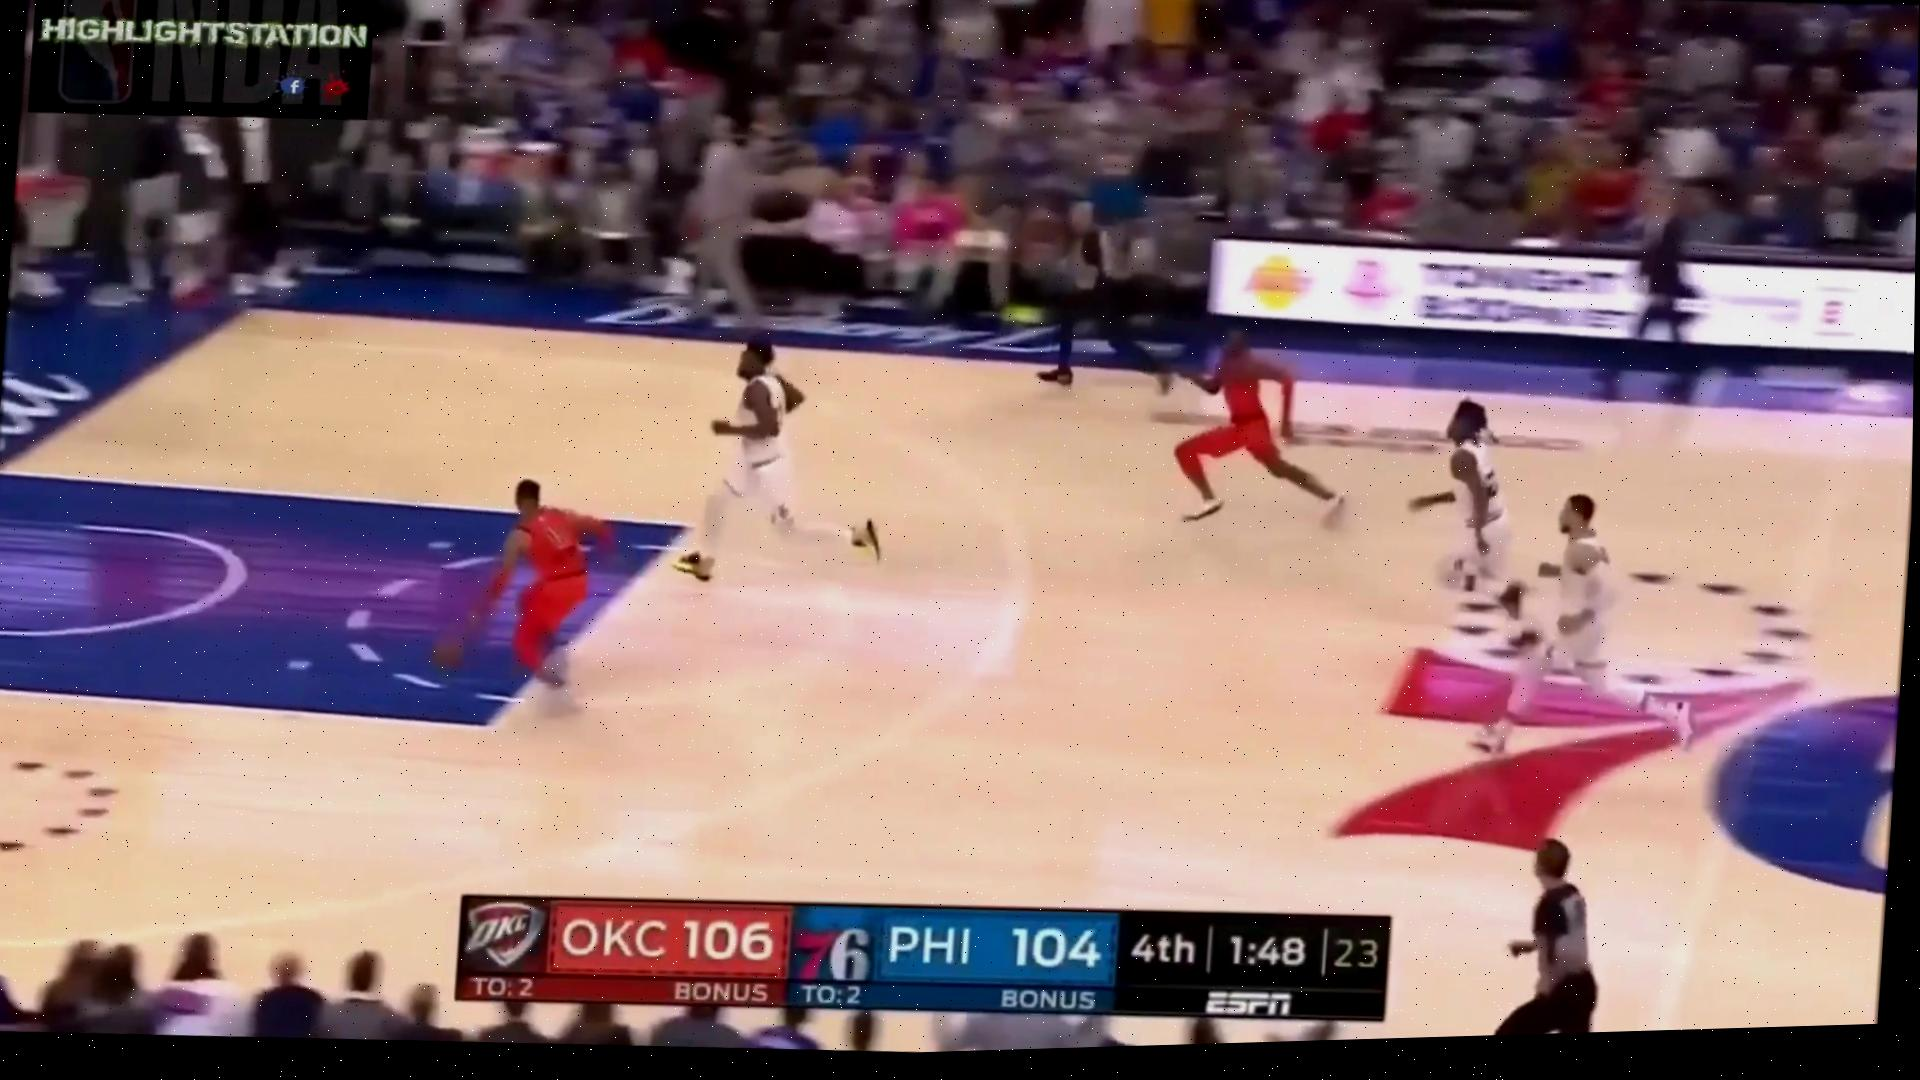no_foul: (472, 322, 885, 742)
